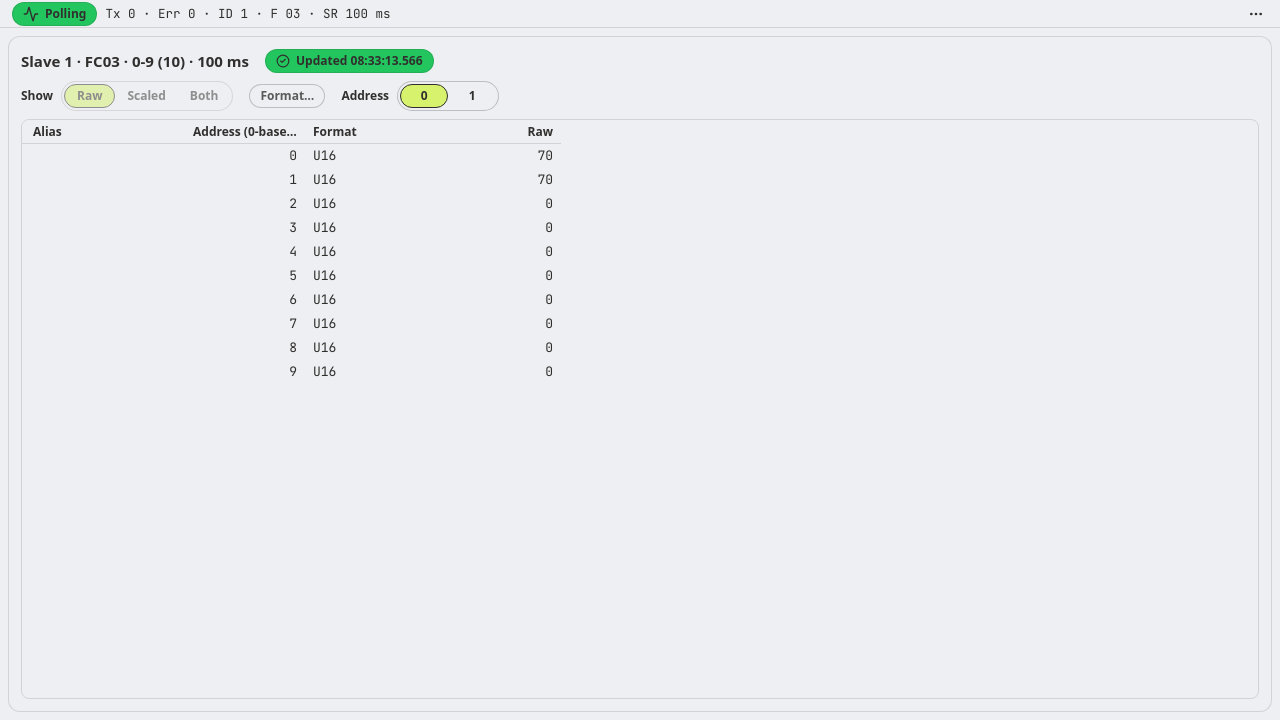
sets a color directly for the clicked register without a numeric condition
Right-click the row "1 U16 70": (293, 180) [289,171,553,188]
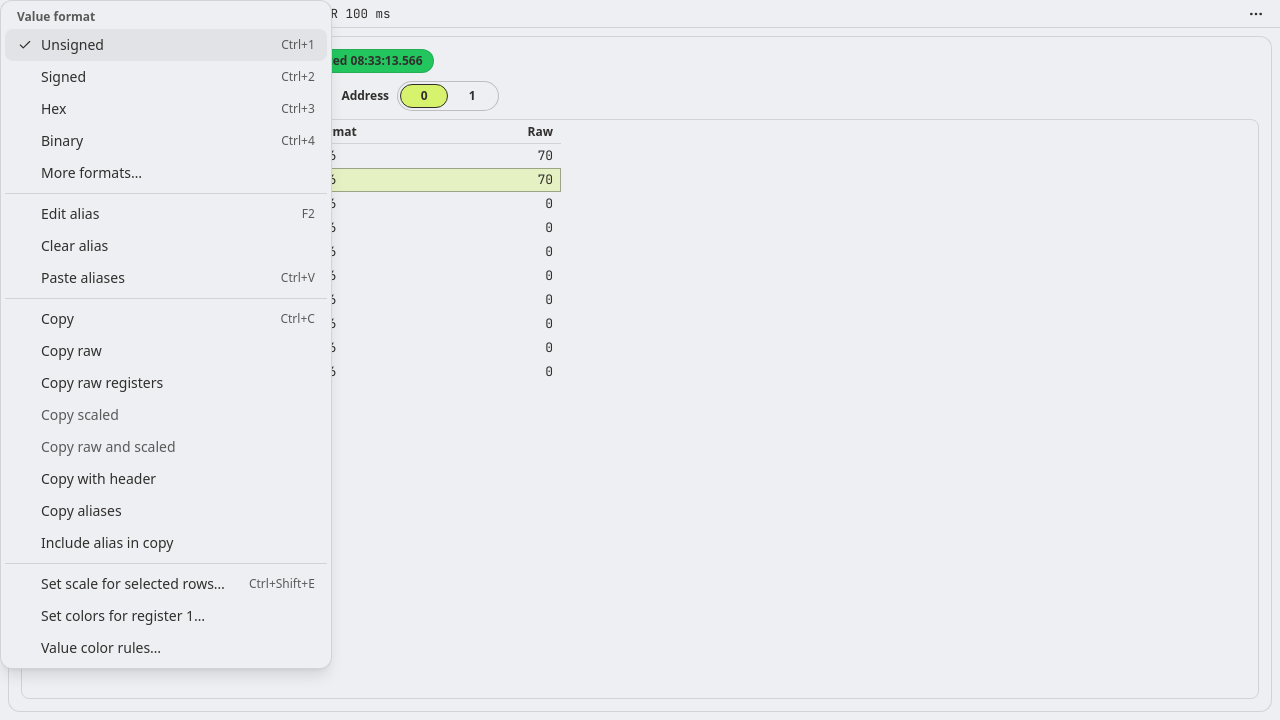
Click the menu item "Set colors for register 1…": (166, 616) [5,600,327,632]
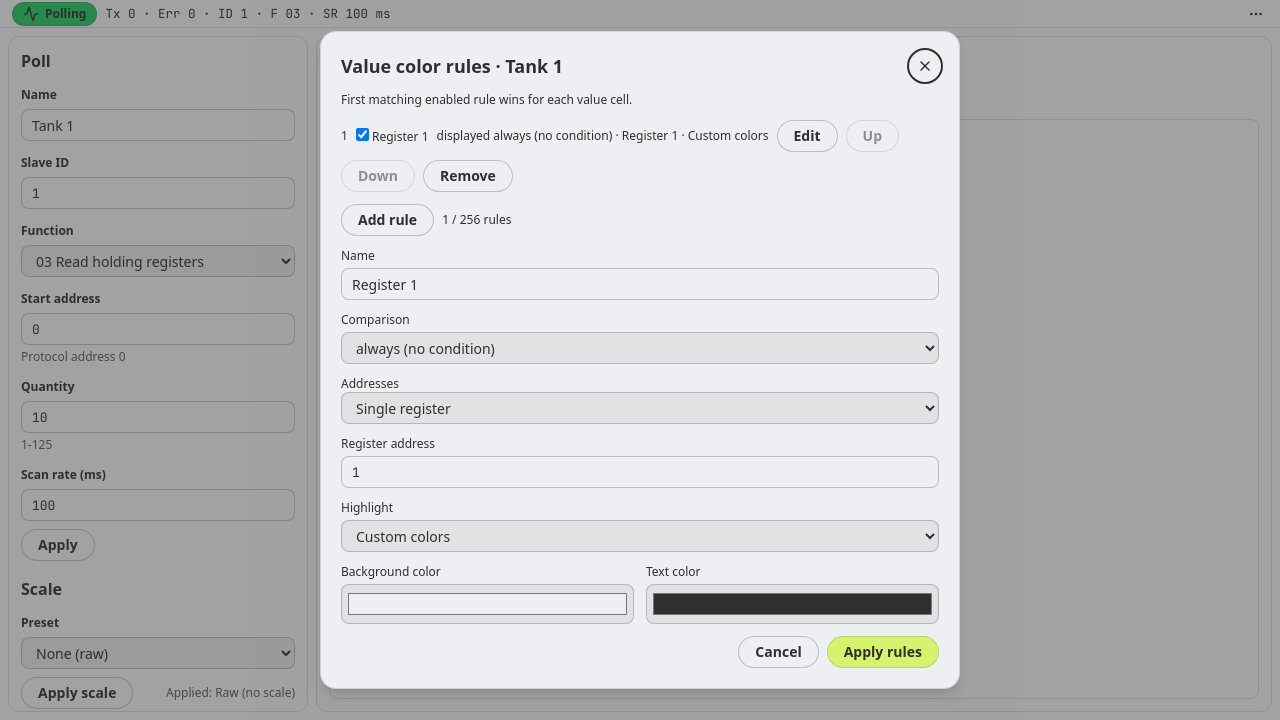
Now the dropdown labelled "Addresses" shows "Single register", box [341,392,939,424]
Now the field labelled "Register address" holds "1", box [341,456,939,488]
Now the dropdown labelled "Comparison" shows "always (no condition)", box [341,332,939,364]
In the colour field labelled "Background color": (488, 604) [341,584,634,624], type "#337bd6"
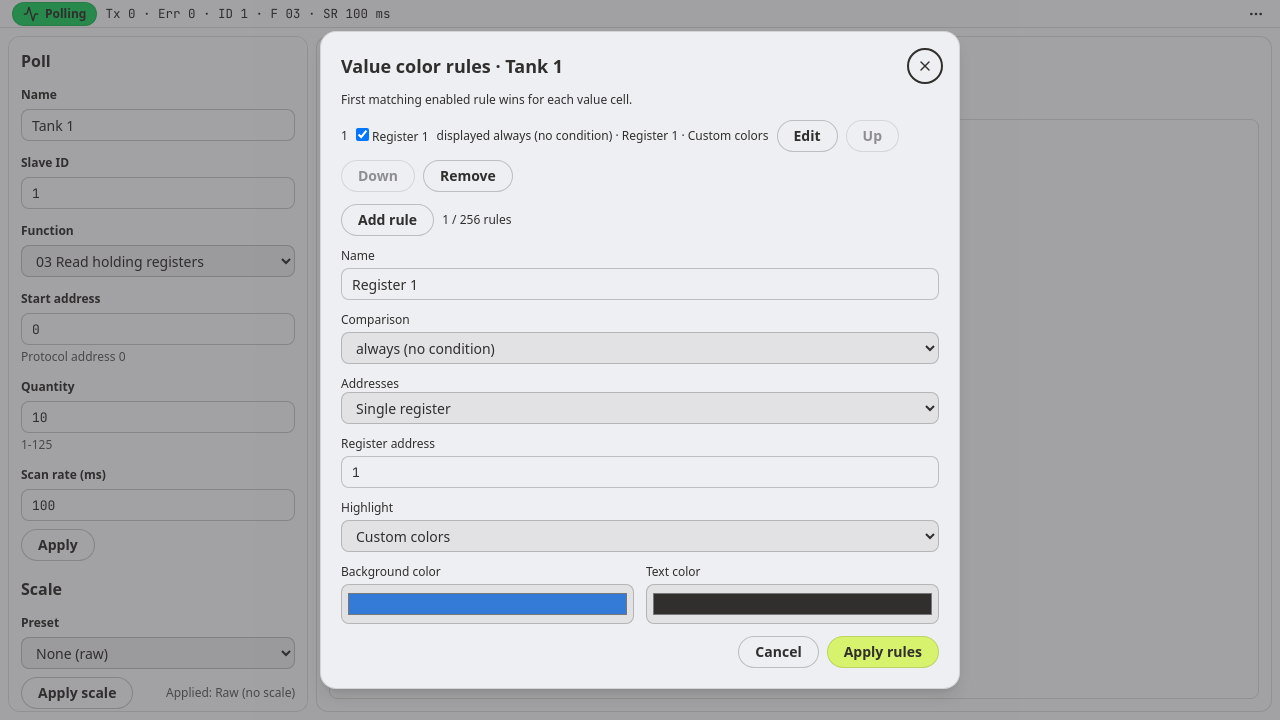
Click the button "Apply rules": (883, 652) [827,636,939,668]
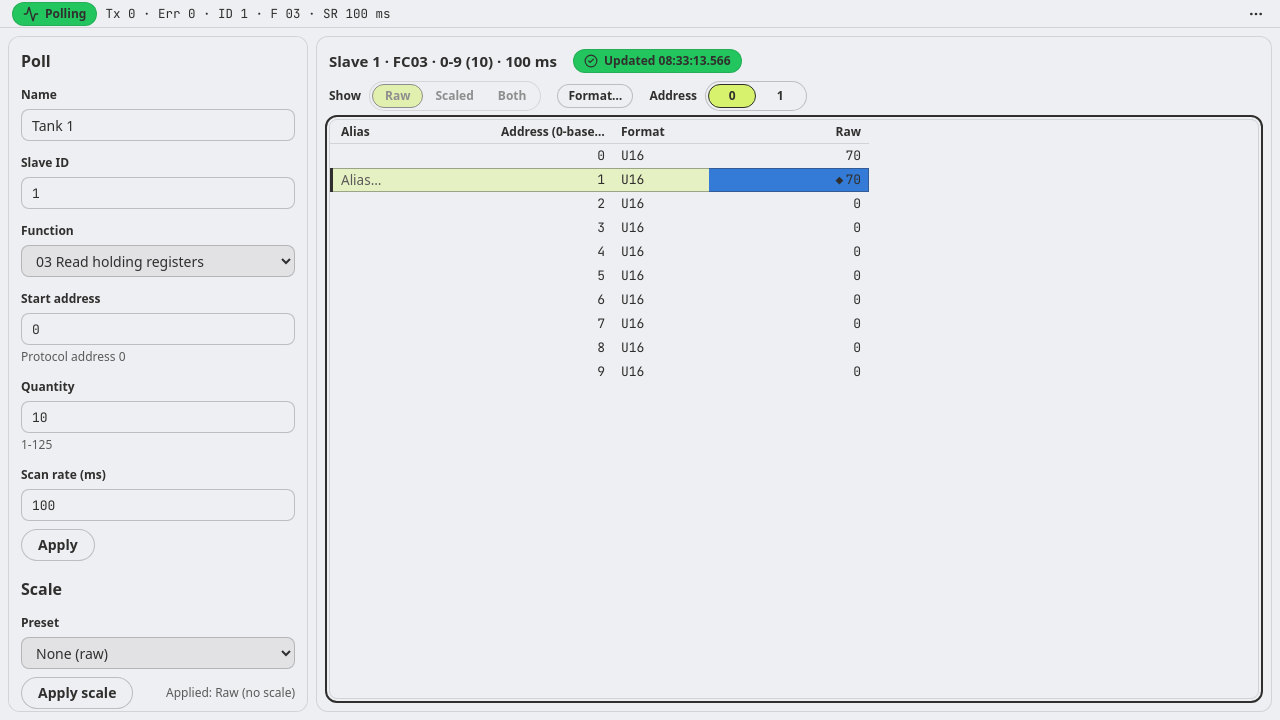
Now the picture named "Rule: Register 1" is shown, box [834,168,845,192]
